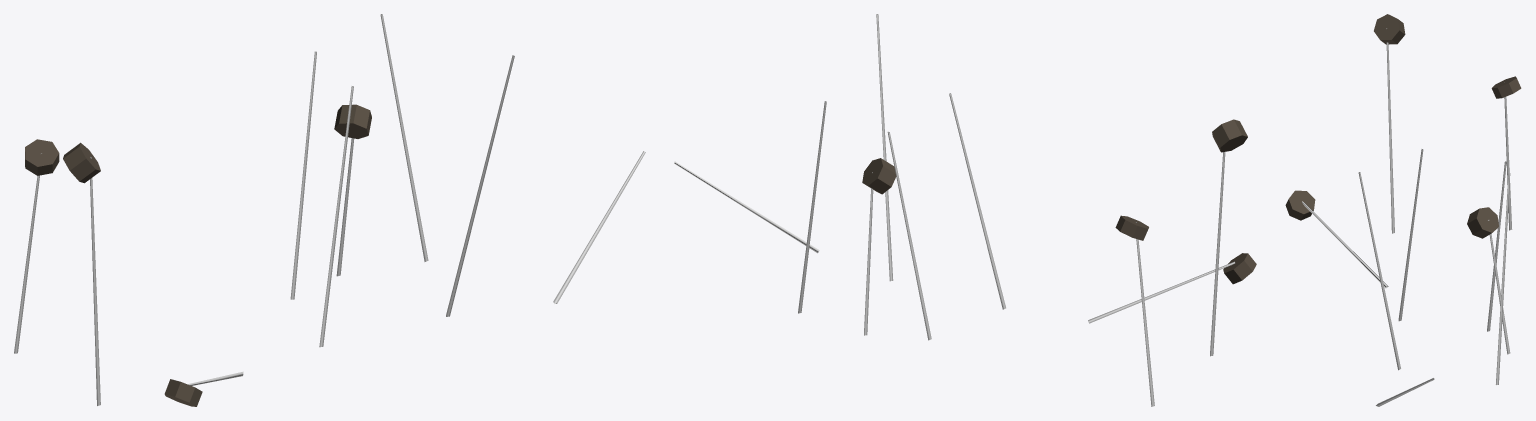
Rendered from S7U_Sunflowers_C.fbx.
3 renders of one model, left to right at view 1: azimuth 30°, elevation 25°; view 2: azimuth 150°, elevation 25°; view 3: azimuth 270°, elevation 25°, orthographic. The views are drawn at different scales.
Visible parts, largest first — view 1: S7U_Sunflowers_C; view 2: S7U_Sunflowers_C; view 3: S7U_Sunflowers_C.
Boxes of the visible parts, x1=… form: S7U_Sunflowers_C: x1=14, y1=14, x2=645, y2=406; S7U_Sunflowers_C: x1=674, y1=14, x2=1256, y2=406; S7U_Sunflowers_C: x1=1285, y1=14, x2=1521, y2=406.
Bounding box in the file's own units: 4.3 × 1.83 × 1.83.
